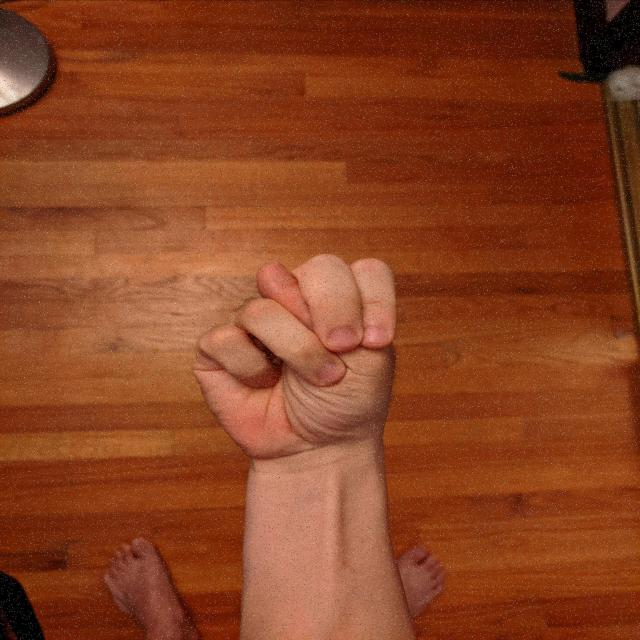N: (186, 248, 404, 462)
